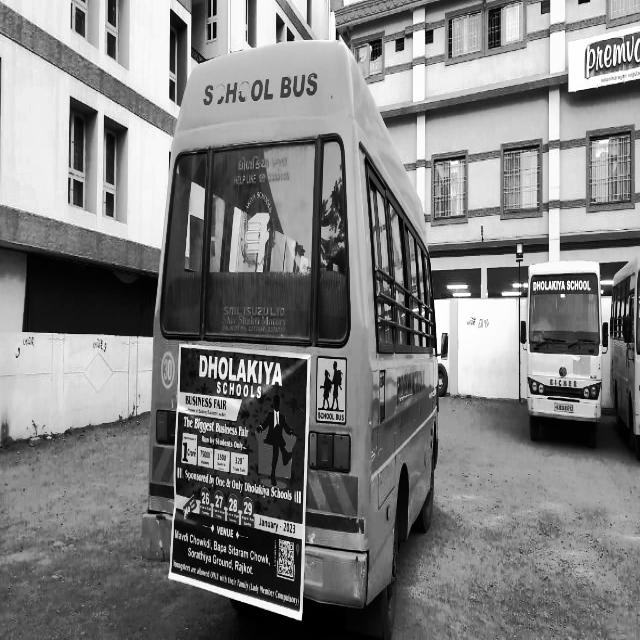Bus: (145, 32, 452, 632), (522, 237, 608, 460), (610, 265, 640, 451)
